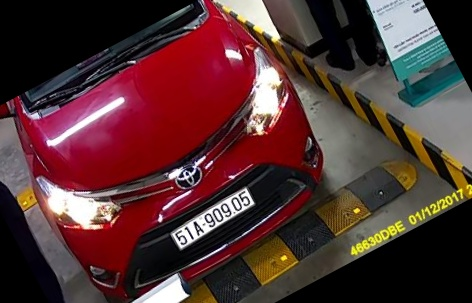plate: (165, 181, 259, 254)
